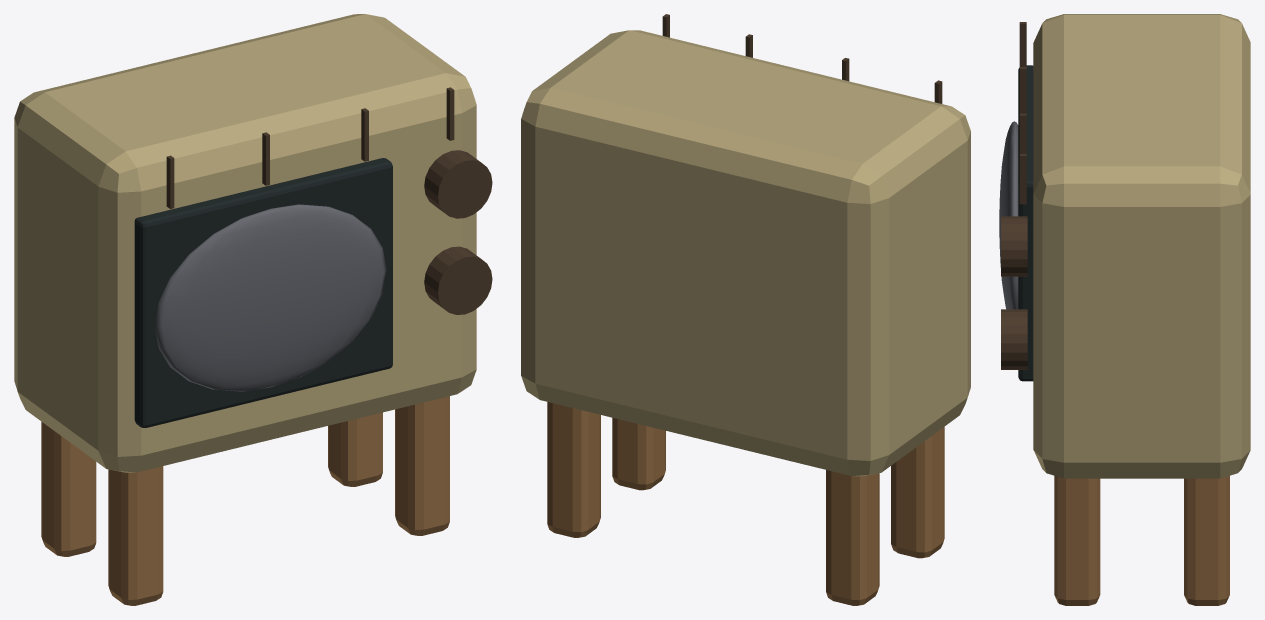
File: better.glb
The picture shows the model from 3 angles, left to right: view 1: azimuth 30°, elevation 25°; view 2: azimuth 150°, elevation 25°; view 3: azimuth 270°, elevation 25°; orthographic projection. The views are drawn at different scales.
Visible parts, largest first — view 1: Stone TV cabinet, Curved CRT, Leg, CRT bezel, Stone joint; view 2: Stone TV cabinet, Leg, Stone joint; view 3: Stone TV cabinet, Leg, Stone joint, CRT bezel, Curved CRT.
Boxes of the visible parts, x1=… form: Stone TV cabinet: x1=14, y1=14, x2=476, y2=472; Curved CRT: x1=154, y1=204, x2=386, y2=391; Leg: x1=41, y1=396, x2=449, y2=605; CRT bezel: x1=134, y1=158, x2=392, y2=427; Stone joint: x1=166, y1=87, x2=492, y2=314; Stone TV cabinet: x1=521, y1=30, x2=970, y2=476; Leg: x1=547, y1=402, x2=944, y2=605; Stone joint: x1=662, y1=14, x2=942, y2=103; Stone TV cabinet: x1=1033, y1=14, x2=1250, y2=478; Leg: x1=1054, y1=475, x2=1229, y2=605; Stone joint: x1=1001, y1=22, x2=1027, y2=369; CRT bezel: x1=1018, y1=65, x2=1033, y2=381; Curved CRT: x1=999, y1=121, x2=1018, y2=309.
Size of the model in its own units: 1 by 1.17 by 0.6.
